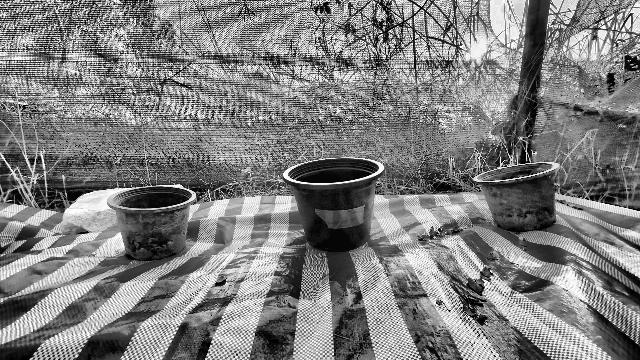pot: (283, 156, 385, 251), (105, 184, 197, 261), (472, 161, 560, 233)
